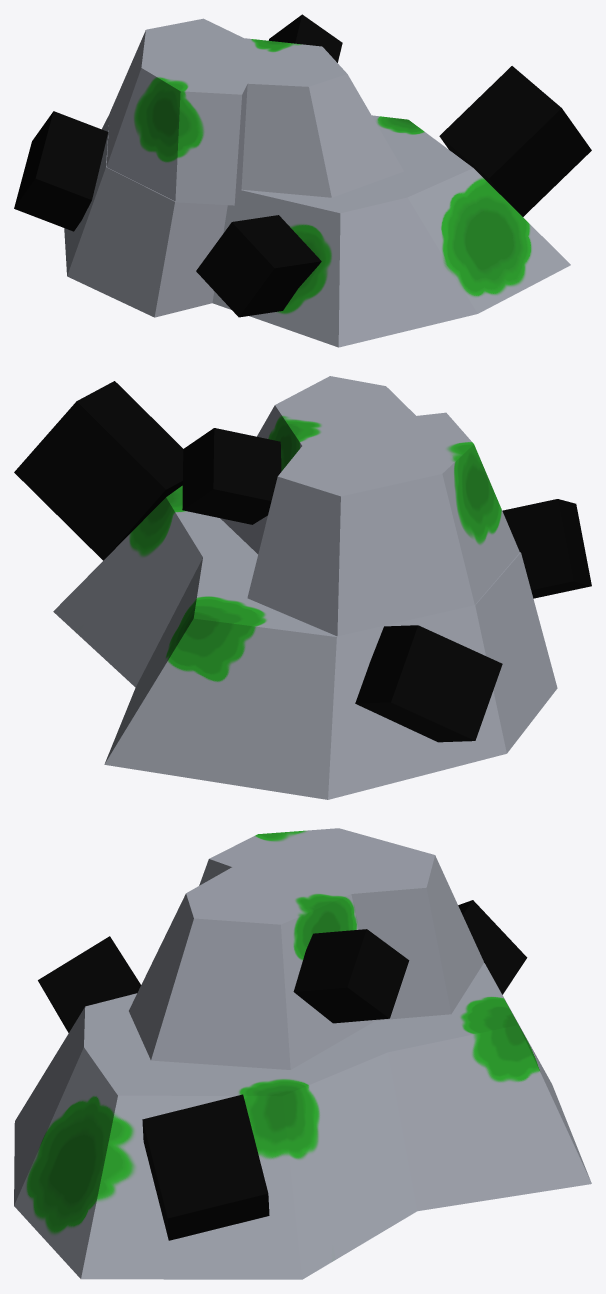
Rendered from CarbonMusgo1.fbx.
3 renders of one model, top to bottom at view 1: azimuth 30°, elevation 25°; view 2: azimuth 150°, elevation 25°; view 3: azimuth 270°, elevation 25°, orthographic. The views are drawn at different scales.
Parts seen in each view (by area): view 1: base.037, Cylinder.026, carbon.016, carbon.017, carbon.018; view 2: base.037, Cylinder.026, carbon.017, carbon.018, carbon.016; view 3: base.037, Cylinder.026, carbon.018, carbon.016, carbon.017.
Boxes of the visible parts, box(x1,y1,x2,y2) form: base.037: box(64, 18, 570, 347); Cylinder.026: box(439, 66, 591, 216); carbon.016: box(196, 215, 321, 317); carbon.017: box(14, 111, 108, 231); carbon.018: box(269, 14, 342, 62); base.037: box(53, 376, 557, 799); Cylinder.026: box(14, 381, 183, 560); carbon.017: box(355, 625, 502, 742); carbon.018: box(182, 428, 281, 524); carbon.016: box(502, 499, 591, 598); base.037: box(14, 828, 591, 1279); Cylinder.026: box(142, 1094, 269, 1240); carbon.018: box(293, 929, 409, 1023); carbon.016: box(38, 936, 140, 1032); carbon.017: box(458, 900, 527, 994).
Size of the model in its own units: 156 by 66.35 by 136.
